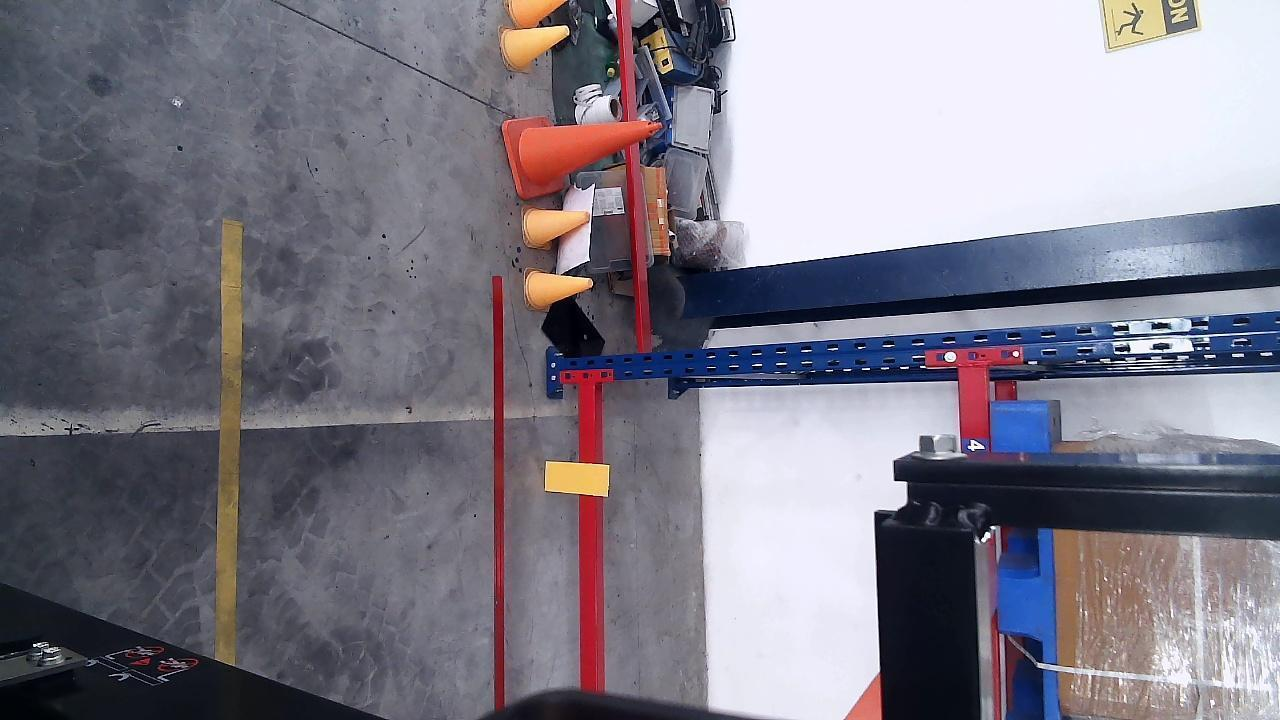red_line: (490, 276, 507, 706)
yellow_line: (216, 218, 243, 664)
